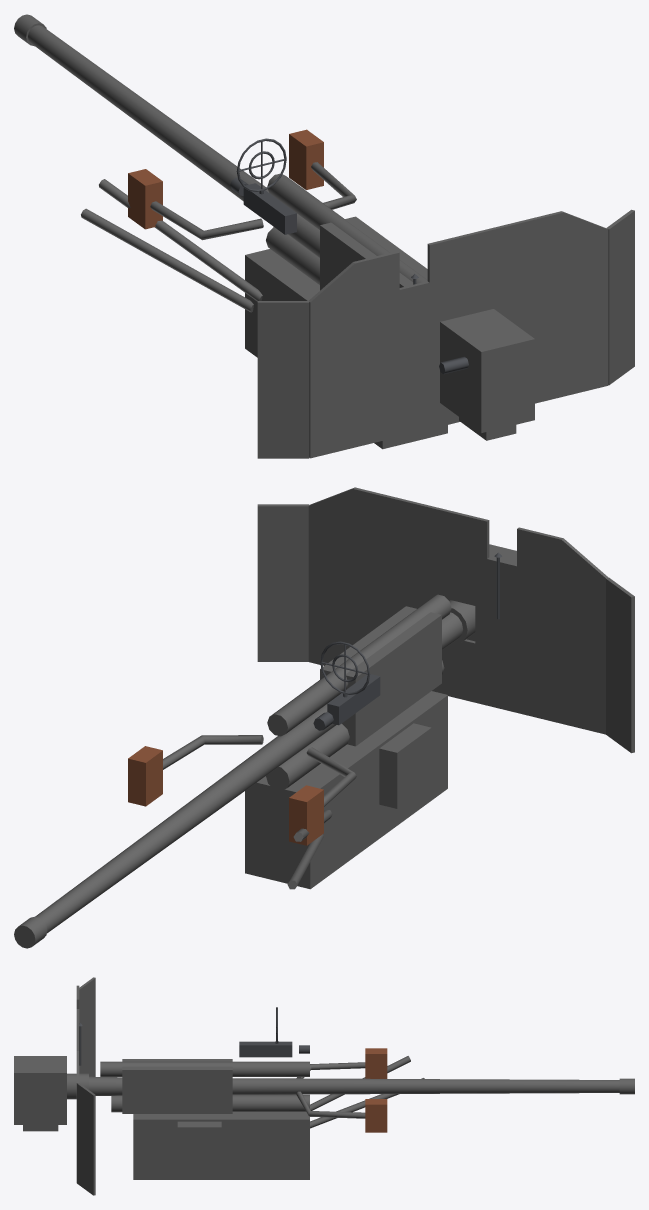
3 renders of one model, top to bottom at view 1: azimuth 30°, elevation 25°; view 2: azimuth 150°, elevation 25°; view 3: azimuth 270°, elevation 25°, orthographic. The views are drawn at different scales.
Parts seen in each view (by area): view 1: turret_0, barrel_0, turret_1, turret_2; view 2: turret_0, barrel_0, turret_1, turret_2; view 3: turret_0, barrel_0, turret_1, turret_2.
Boxes of the visible parts, x1=… form: turret_0: x1=81, y1=162, x2=634, y2=458; barrel_0: x1=14, y1=14, x2=534, y2=440; turret_1: x1=128, y1=129, x2=323, y2=229; turret_2: x1=230, y1=138, x2=418, y2=284; turret_0: x1=163, y1=487, x2=634, y2=889; barrel_0: x1=14, y1=544, x2=516, y2=948; turret_1: x1=128, y1=746, x2=323, y2=845; turret_2: x1=313, y1=552, x2=501, y2=730; turret_0: x1=76, y1=977, x2=424, y2=1195; barrel_0: x1=14, y1=1056, x2=634, y2=1131; turret_1: x1=365, y1=1048, x2=387, y2=1132; turret_2: x1=79, y1=1007, x2=309, y2=1065.
Size of the model in its own units: 1.27 by 0.755 by 2.81.
